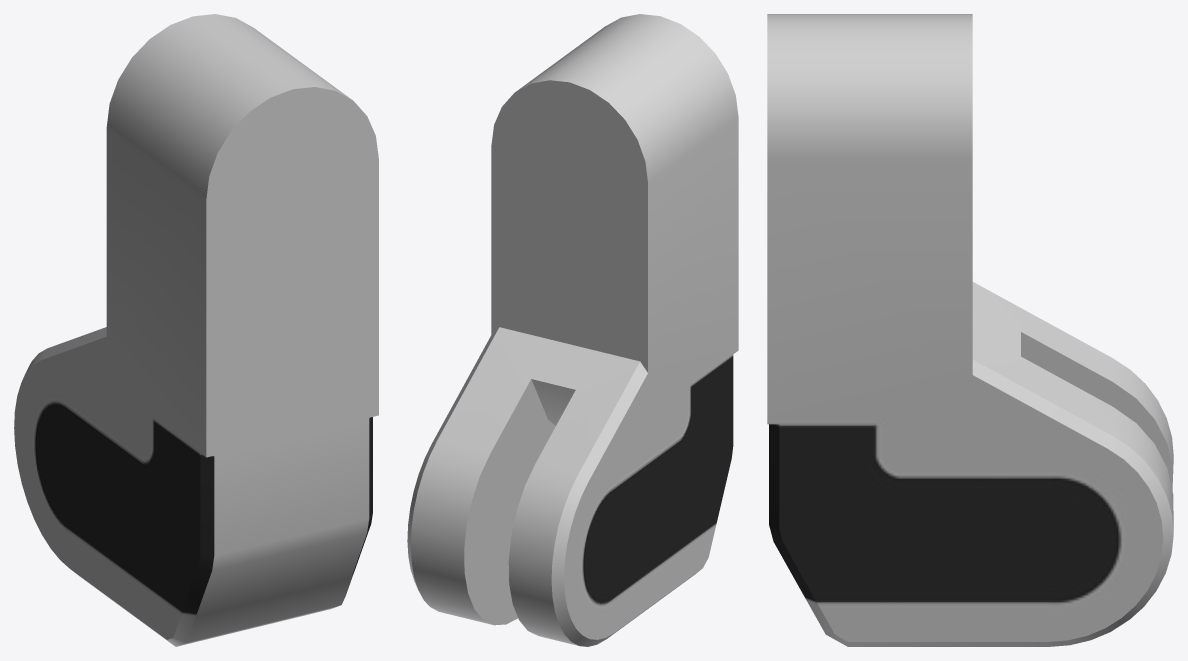
File: firstFingerLink.obj
3 renders of one model, left to right at view 1: azimuth 30°, elevation 25°; view 2: azimuth 150°, elevation 25°; view 3: azimuth 270°, elevation 25°, orthographic. The views are drawn at different scales.
Parts seen in each view (by area): view 1: firstFingerLink; view 2: firstFingerLink; view 3: firstFingerLink.
Boxes of the visible parts, x1,y1,x2,y2 form: firstFingerLink: (14,14,378,646); firstFingerLink: (407,14,738,646); firstFingerLink: (767,14,1173,646).
Size of the model in its own units: 0.0246 by 0.0773 by 0.0487.
1 material, 1 textured.
